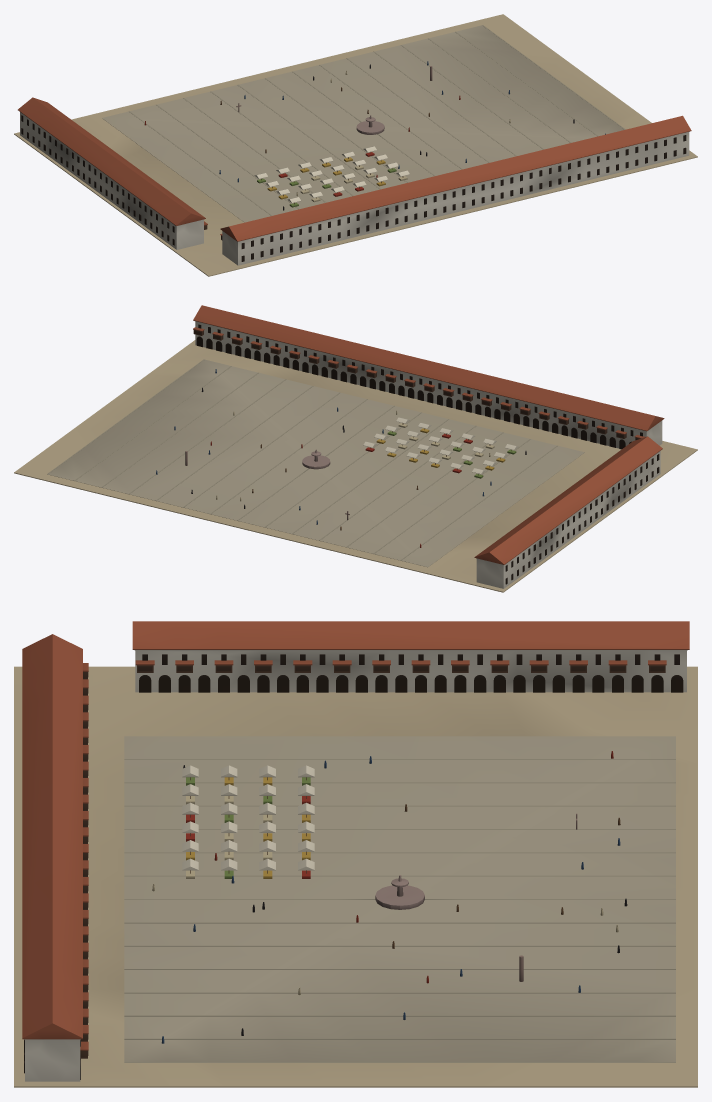
Rendered from plaza-1650.glb.
3 views of the same model, one above another, from view 1: azimuth 30°, elevation 25°; view 2: azimuth 150°, elevation 25°; view 3: azimuth 270°, elevation 25° (orthographic). The views are drawn at different scales.
Visible parts, largest first — view 1: p0_plaza, p1_portales, p2_market; view 2: p0_plaza, p2_market, p1_portales; view 3: p0_plaza, p2_market, p1_portales.
Boxes of the visible parts, x1=… form: p0_plaza: x1=14, y1=14, x2=697, y2=276; p1_portales: x1=20, y1=66, x2=689, y2=265; p2_market: x1=18, y1=61, x2=691, y2=241; p0_plaza: x1=14, y1=340, x2=697, y2=592; p2_market: x1=156, y1=305, x2=664, y2=564; p1_portales: x1=185, y1=321, x2=662, y2=588; p0_plaza: x1=14, y1=666, x2=697, y2=1087; p2_market: x1=22, y1=621, x2=689, y2=1050; p1_portales: x1=24, y1=650, x2=687, y2=1081.
Bounding box in the file's own units: 180 × 12.2 × 124.
